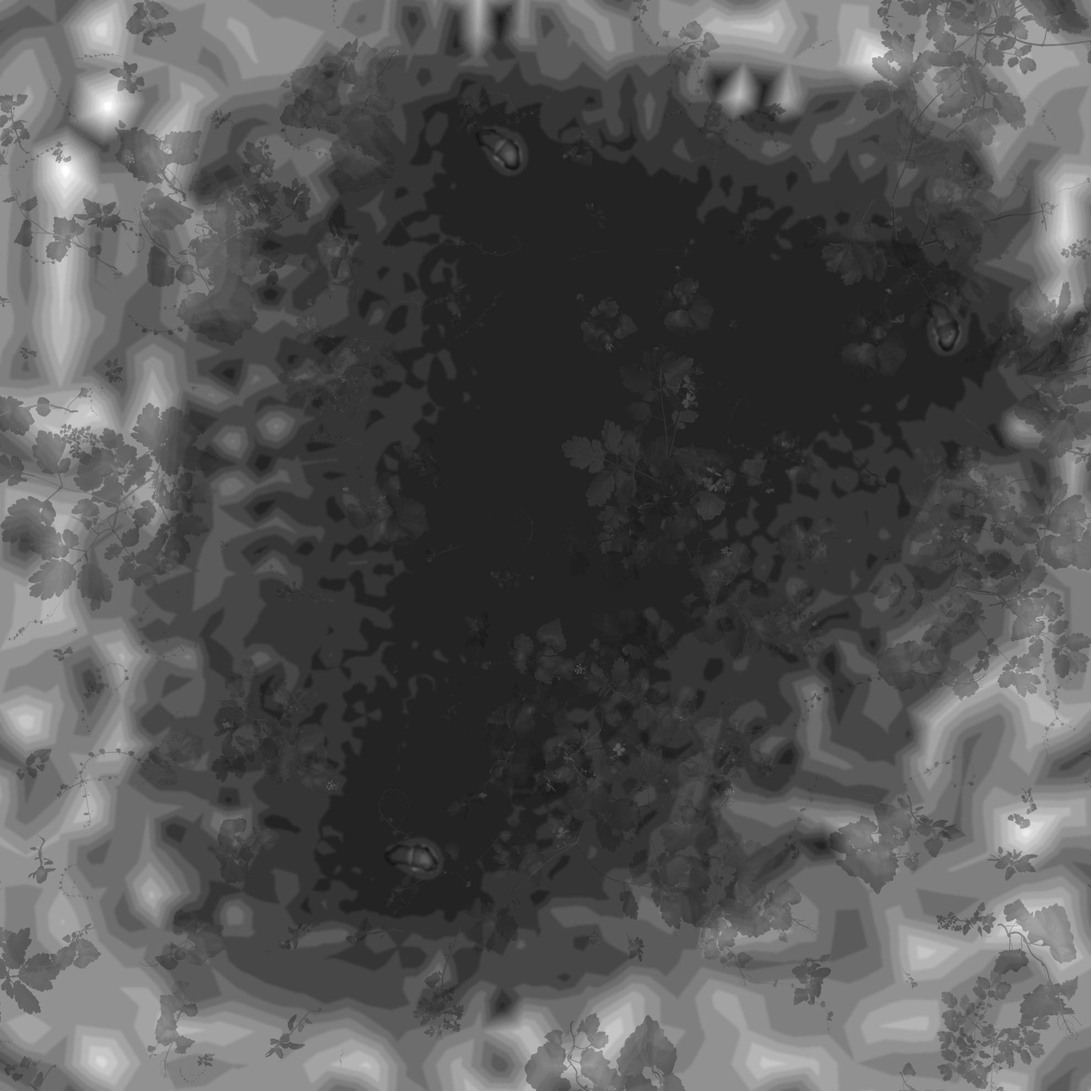landmine: (473, 124, 523, 173), (378, 840, 438, 878), (922, 295, 960, 355)
